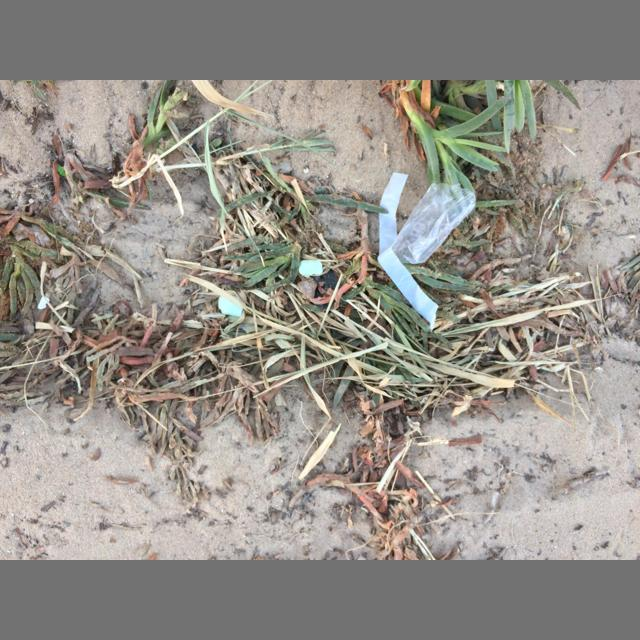litter: (378, 173, 437, 330), (392, 182, 476, 264), (218, 296, 243, 316), (299, 260, 323, 276), (38, 296, 50, 309)
